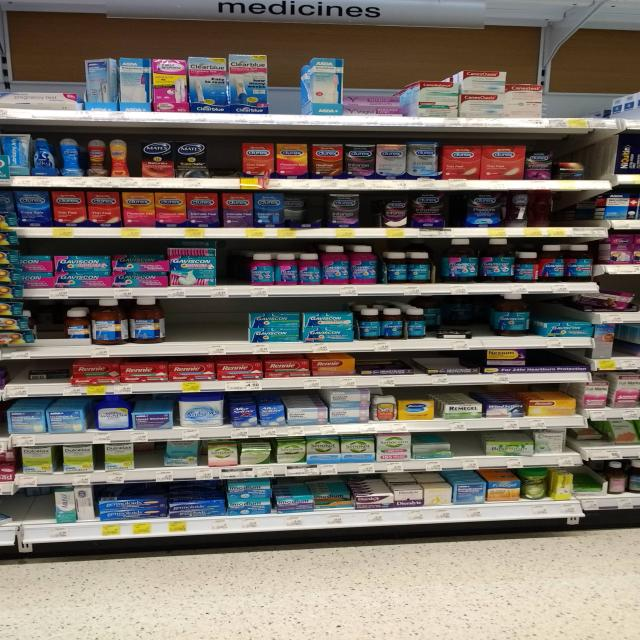void: (170, 299, 240, 338), (552, 82, 610, 116), (562, 192, 599, 226), (2, 494, 44, 519), (418, 355, 476, 372), (537, 352, 579, 368), (454, 436, 480, 455)
